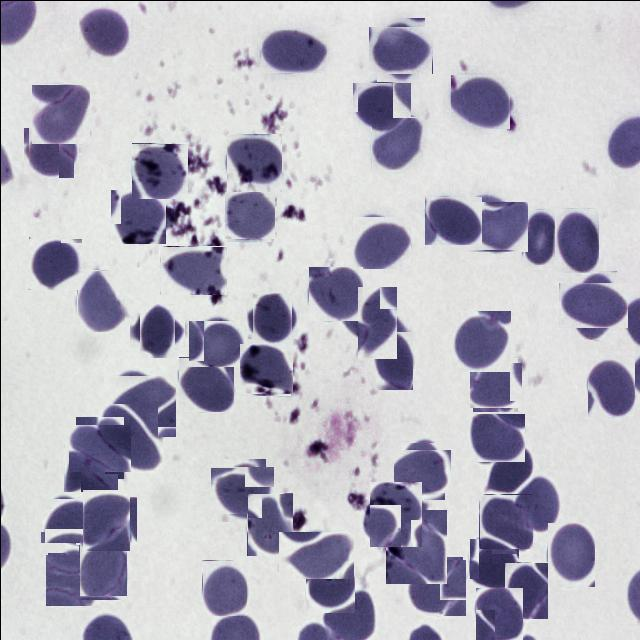red blood cell: (385, 509, 446, 583), (112, 373, 174, 438), (104, 403, 157, 473), (451, 310, 510, 371), (404, 558, 464, 617), (30, 83, 89, 143), (278, 531, 353, 578), (365, 484, 424, 543), (564, 276, 622, 334), (449, 73, 509, 128), (159, 245, 226, 294), (226, 133, 281, 191), (372, 22, 428, 78), (348, 294, 404, 350), (131, 142, 187, 198), (110, 188, 165, 243), (214, 462, 269, 517), (178, 356, 232, 412), (352, 216, 410, 268), (547, 522, 594, 586), (76, 269, 124, 331), (478, 493, 532, 548), (78, 493, 133, 547), (308, 266, 362, 321), (553, 207, 598, 272), (470, 199, 524, 253), (46, 552, 100, 606), (72, 420, 126, 474), (78, 6, 130, 62), (260, 28, 326, 72), (246, 492, 292, 555), (78, 539, 126, 599), (423, 195, 481, 244), (586, 358, 634, 416), (466, 413, 524, 461), (28, 237, 80, 290), (355, 79, 408, 131), (370, 116, 422, 169), (513, 474, 558, 535), (239, 342, 291, 394), (190, 317, 241, 368), (64, 442, 115, 493), (26, 124, 76, 176), (474, 586, 522, 640), (397, 445, 447, 496), (201, 559, 246, 615), (503, 561, 547, 618), (470, 360, 520, 410), (306, 562, 356, 612), (224, 190, 274, 240), (42, 496, 92, 545), (469, 538, 517, 586), (486, 443, 530, 494), (374, 330, 412, 389), (248, 295, 294, 341), (134, 307, 179, 352), (520, 208, 556, 264)
